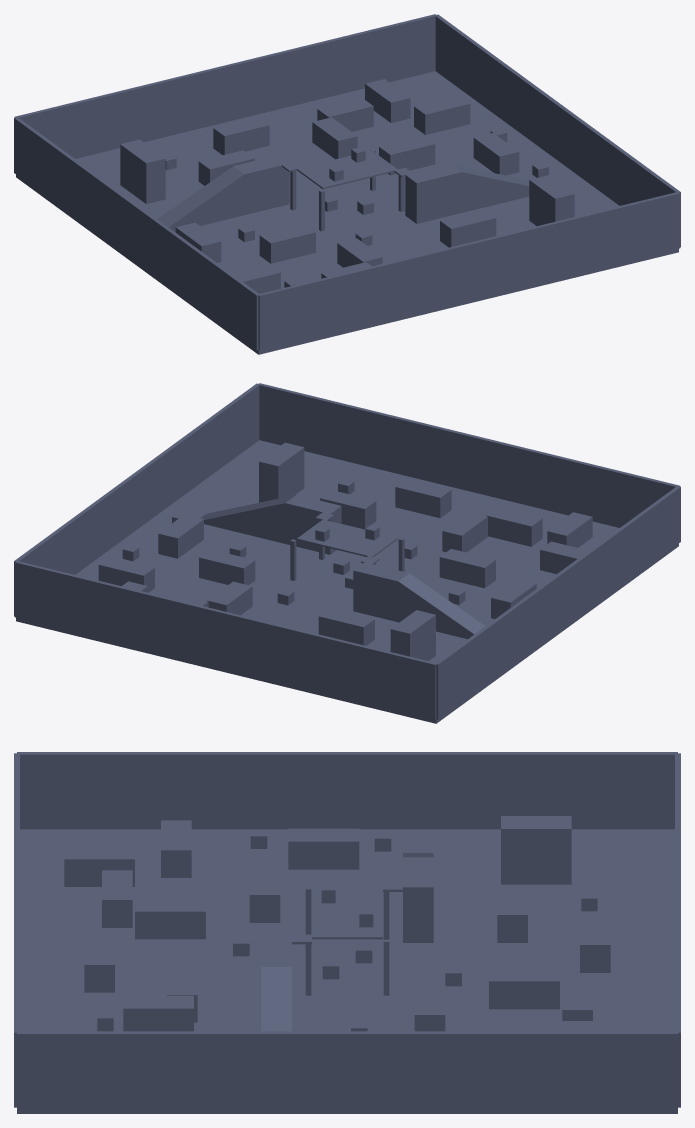
Rendered from neon_collision.glb.
3 renders of one model, top to bottom at view 1: azimuth 30°, elevation 25°; view 2: azimuth 150°, elevation 25°; view 3: azimuth 270°, elevation 25°, orthographic. The views are drawn at different scales.
Visible parts, largest first — view 1: COL_floor_quay, COL_wall_south, COL_wall_north, COL_wall_west, COL_wall_east, COL_gantry_deck, COL_maze_2_a, COL_stack_high_b, COL_spawn_wall_n_b, COL_maze_4_b, COL_maze_8_b, COL_maze_2_b (+20 smaller); view 2: COL_floor_quay, COL_wall_north, COL_wall_south, COL_wall_west, COL_wall_east, COL_gantry_deck, COL_maze_4_a, COL_maze_2_a, COL_maze_5_a, COL_maze_2_b, COL_maze_8_a, COL_stack_high_a (+19 smaller); view 3: COL_floor_quay, COL_wall_east, COL_wall_west, COL_gantry_deck, COL_maze_1_a, COL_maze_3_a, COL_maze_3_b, COL_tall_high_a, COL_tall_high_b, COL_spawn_wall_e_a, COL_tall_low_a, COL_wall_north (+15 smaller).
Boxes of the visible parts, x1,y1,x2,y2 form: COL_floor_quay: [16, 71, 678, 354]; COL_wall_south: [258, 192, 680, 350]; COL_wall_north: [14, 14, 435, 158]; COL_wall_west: [14, 117, 259, 350]; COL_wall_east: [435, 14, 680, 247]; COL_gantry_deck: [297, 150, 397, 189]; COL_maze_2_a: [259, 224, 315, 263]; COL_stack_high_b: [405, 164, 461, 203]; COL_spawn_wall_n_b: [414, 95, 470, 134]; COL_maze_4_b: [213, 117, 269, 155]; COL_maze_8_b: [440, 210, 496, 247]; COL_maze_2_b: [379, 136, 435, 175]; COL_floor_quay: [16, 440, 678, 723]; COL_wall_north: [14, 561, 436, 719]; COL_wall_south: [258, 383, 680, 527]; COL_wall_west: [435, 486, 680, 719]; COL_wall_east: [14, 383, 259, 616]; COL_gantry_deck: [297, 519, 397, 556]; COL_maze_4_a: [395, 478, 451, 518]; COL_maze_2_a: [439, 549, 495, 588]; COL_maze_5_a: [486, 507, 542, 546]; COL_maze_2_b: [199, 549, 255, 585]; COL_maze_8_a: [318, 608, 374, 645]; COL_stack_high_a: [353, 562, 409, 601]; COL_floor_quay: [17, 829, 677, 1113]; COL_wall_east: [17, 1031, 677, 1108]; COL_wall_west: [17, 752, 677, 829]; COL_gantry_deck: [312, 887, 382, 939]; COL_maze_1_a: [288, 828, 359, 869]; COL_maze_3_a: [135, 898, 205, 939]; COL_maze_3_b: [489, 968, 559, 1009]; COL_tall_high_a: [501, 816, 571, 856]; COL_tall_high_b: [123, 995, 193, 1031]; COL_spawn_wall_e_a: [64, 846, 134, 886]; COL_tall_low_a: [501, 856, 571, 884]; COL_wall_north: [675, 753, 680, 1107].
Bounding box in the file's own units: 56.5 × 7.6 × 56.5.
